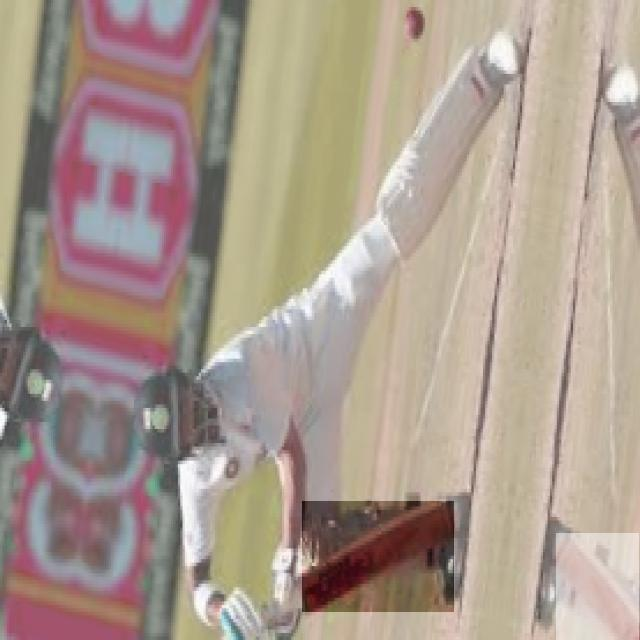bat: (303, 501, 453, 612)
